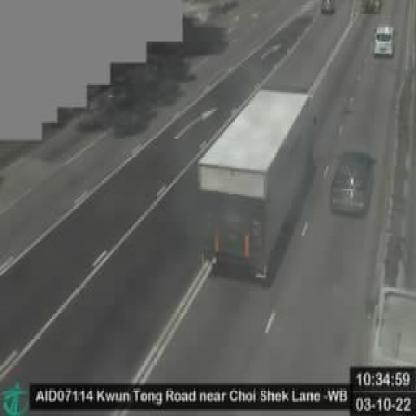Car: (329, 148, 378, 214), (373, 22, 395, 56)
Truck: (200, 88, 310, 279)
